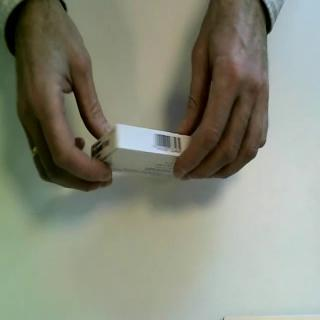oxycontin5mg: (90, 122, 197, 184)
